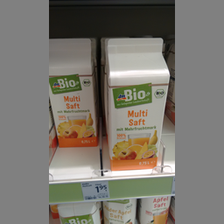juice: (106, 38, 170, 170), (49, 38, 100, 148)
